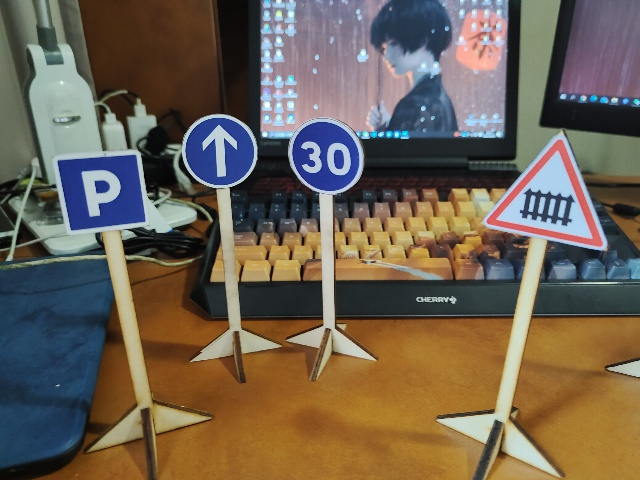P: (55, 149, 149, 232)
straight: (183, 113, 257, 188)
thirty: (288, 119, 364, 194)
train: (482, 131, 611, 252)
